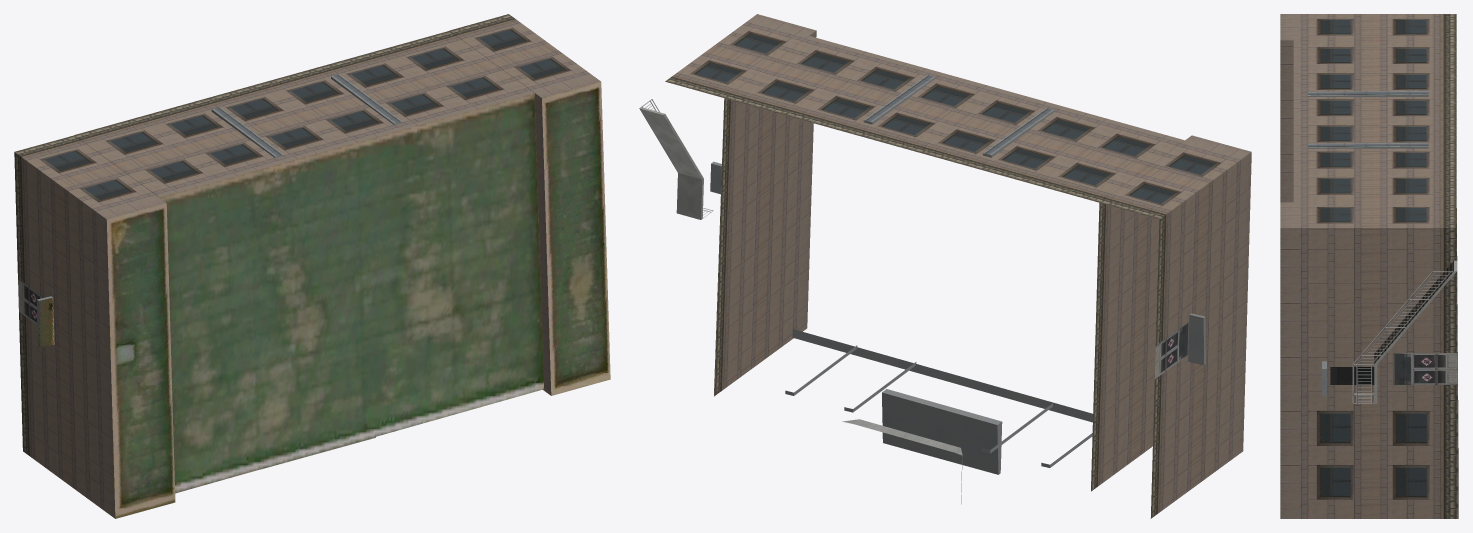
3 renders of one model, left to right at view 1: azimuth 30°, elevation 25°; view 2: azimuth 150°, elevation 25°; view 3: azimuth 270°, elevation 25°, orthographic. The views are drawn at different scales.
Visible parts, largest first — view 1: Group_MatrixTransform_i95001_Geometry_8, Group_MatrixTransform_i95001_Geometry_5, Group_MatrixTransform_i95001_Geometry_4, Group_MatrixTransform_i95001_Geometry_10, Group_MatrixTransform_i95001_Geometry_9, Group_MatrixTransform_i95001_Geometry_0, Group_MatrixTransform_i95001_Geometry_2, Group_MatrixTransform_i95001_Geometry_7; view 2: Group_MatrixTransform_i95001_Geometry_4, Group_MatrixTransform_i95001_Geometry_5, Group_MatrixTransform_i95001_Geometry_12, Group_MatrixTransform_i95001_Geometry_0, Group_MatrixTransform_i95001_Geometry_15, Group_MatrixTransform_i95001_Geometry_2; view 3: Group_MatrixTransform_i95001_Geometry_5, Group_MatrixTransform_i95001_Geometry_4, Group_MatrixTransform_i95001_Geometry_0, Group_MatrixTransform_i95001_Geometry_16, Group_MatrixTransform_i95001_Geometry_2, Group_MatrixTransform_i95001_Geometry_1, Group_MatrixTransform_i95001_Geometry_14, Group_MatrixTransform_i95001_Geometry_12, Group_MatrixTransform_i95001_Geometry_15.
Boxes of the visible parts, x1,y1,x2,y2 form: Group_MatrixTransform_i95001_Geometry_8: (160,93,543,493); Group_MatrixTransform_i95001_Geometry_5: (14,14,600,219); Group_MatrixTransform_i95001_Geometry_4: (14,31,551,518); Group_MatrixTransform_i95001_Geometry_10: (106,203,175,518); Group_MatrixTransform_i95001_Geometry_9: (542,82,610,395); Group_MatrixTransform_i95001_Geometry_0: (17,272,111,386); Group_MatrixTransform_i95001_Geometry_2: (212,74,402,156); Group_MatrixTransform_i95001_Geometry_7: (38,297,54,347); Group_MatrixTransform_i95001_Geometry_4: (714,31,1251,518); Group_MatrixTransform_i95001_Geometry_5: (665,14,1251,219); Group_MatrixTransform_i95001_Geometry_12: (710,77,1205,474); Group_MatrixTransform_i95001_Geometry_0: (1154,273,1248,385); Group_MatrixTransform_i95001_Geometry_15: (639,107,962,504); Group_MatrixTransform_i95001_Geometry_2: (864,75,1054,155); Group_MatrixTransform_i95001_Geometry_5: (1280,14,1458,499); Group_MatrixTransform_i95001_Geometry_4: (1280,40,1458,518); Group_MatrixTransform_i95001_Geometry_0: (1377,353,1457,384); Group_MatrixTransform_i95001_Geometry_16: (1352,271,1453,403); Group_MatrixTransform_i95001_Geometry_2: (1307,90,1428,147); Group_MatrixTransform_i95001_Geometry_1: (1374,261,1453,363); Group_MatrixTransform_i95001_Geometry_14: (1330,367,1374,384); Group_MatrixTransform_i95001_Geometry_12: (1307,94,1428,395); Group_MatrixTransform_i95001_Geometry_15: (1374,260,1457,403).
Size of the model in its own units: 30.27 by 19.04 by 9.15.
Materials: 17 (17 with a texture image).
